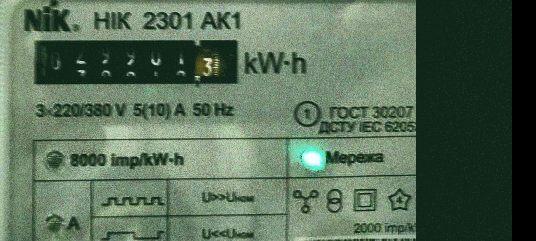0: (148, 42, 162, 67), (47, 49, 63, 70)
1: (173, 43, 186, 66)
2: (72, 46, 88, 65)
3: (200, 54, 213, 76)
9: (123, 44, 137, 66), (98, 44, 110, 66)
screen: (21, 29, 248, 93)
